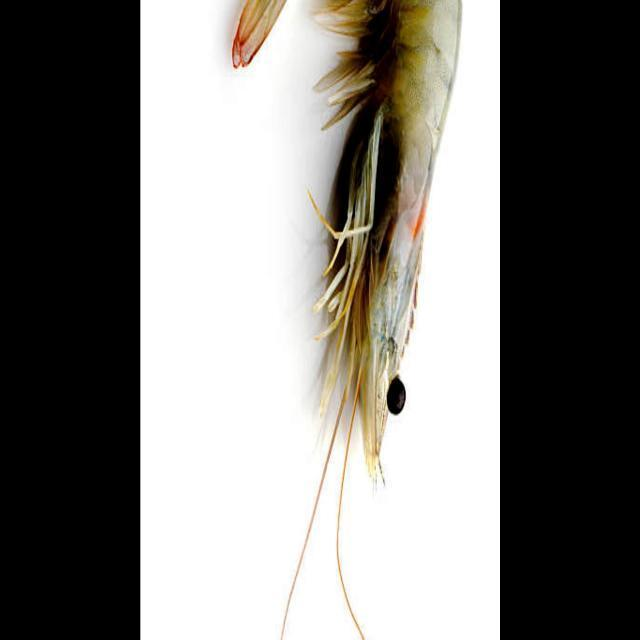shrimp: (315, 0, 460, 471)
